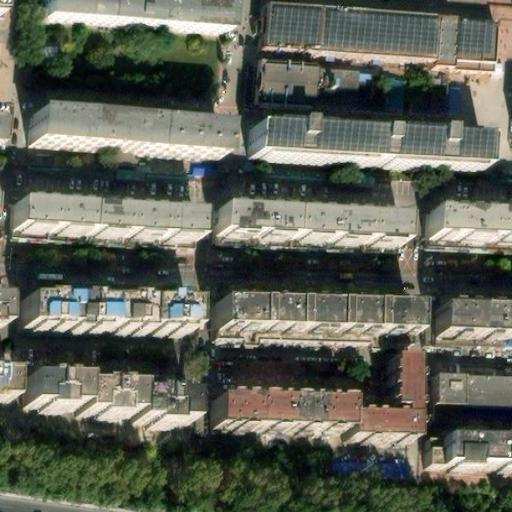building: (267, 2, 495, 65), (250, 128, 489, 176), (29, 111, 221, 159), (214, 301, 417, 343), (219, 207, 404, 250), (15, 204, 198, 245), (19, 299, 184, 340), (342, 357, 414, 445), (41, 0, 219, 32), (258, 60, 370, 105), (213, 392, 344, 428), (425, 436, 512, 473), (422, 211, 512, 245), (426, 376, 512, 411), (432, 310, 512, 347), (79, 389, 138, 425), (23, 381, 81, 416), (136, 396, 190, 430), (380, 75, 405, 114), (0, 369, 16, 405), (0, 287, 13, 326), (0, 110, 13, 144)
